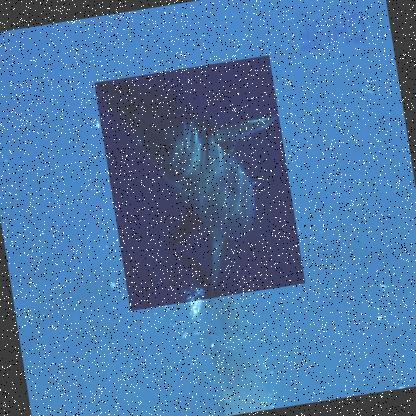mako-shark: (92, 53, 304, 310)
